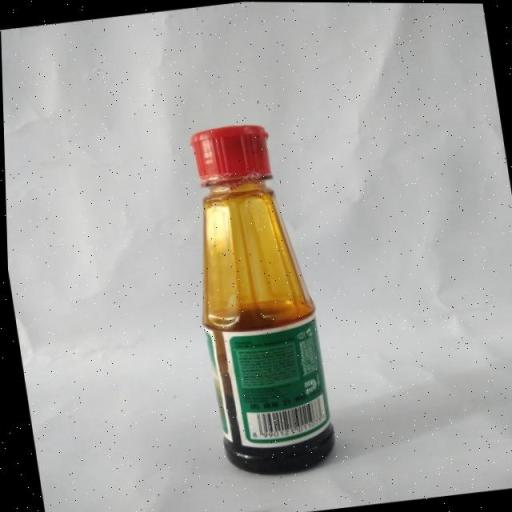plastic: (165, 113, 346, 486)
